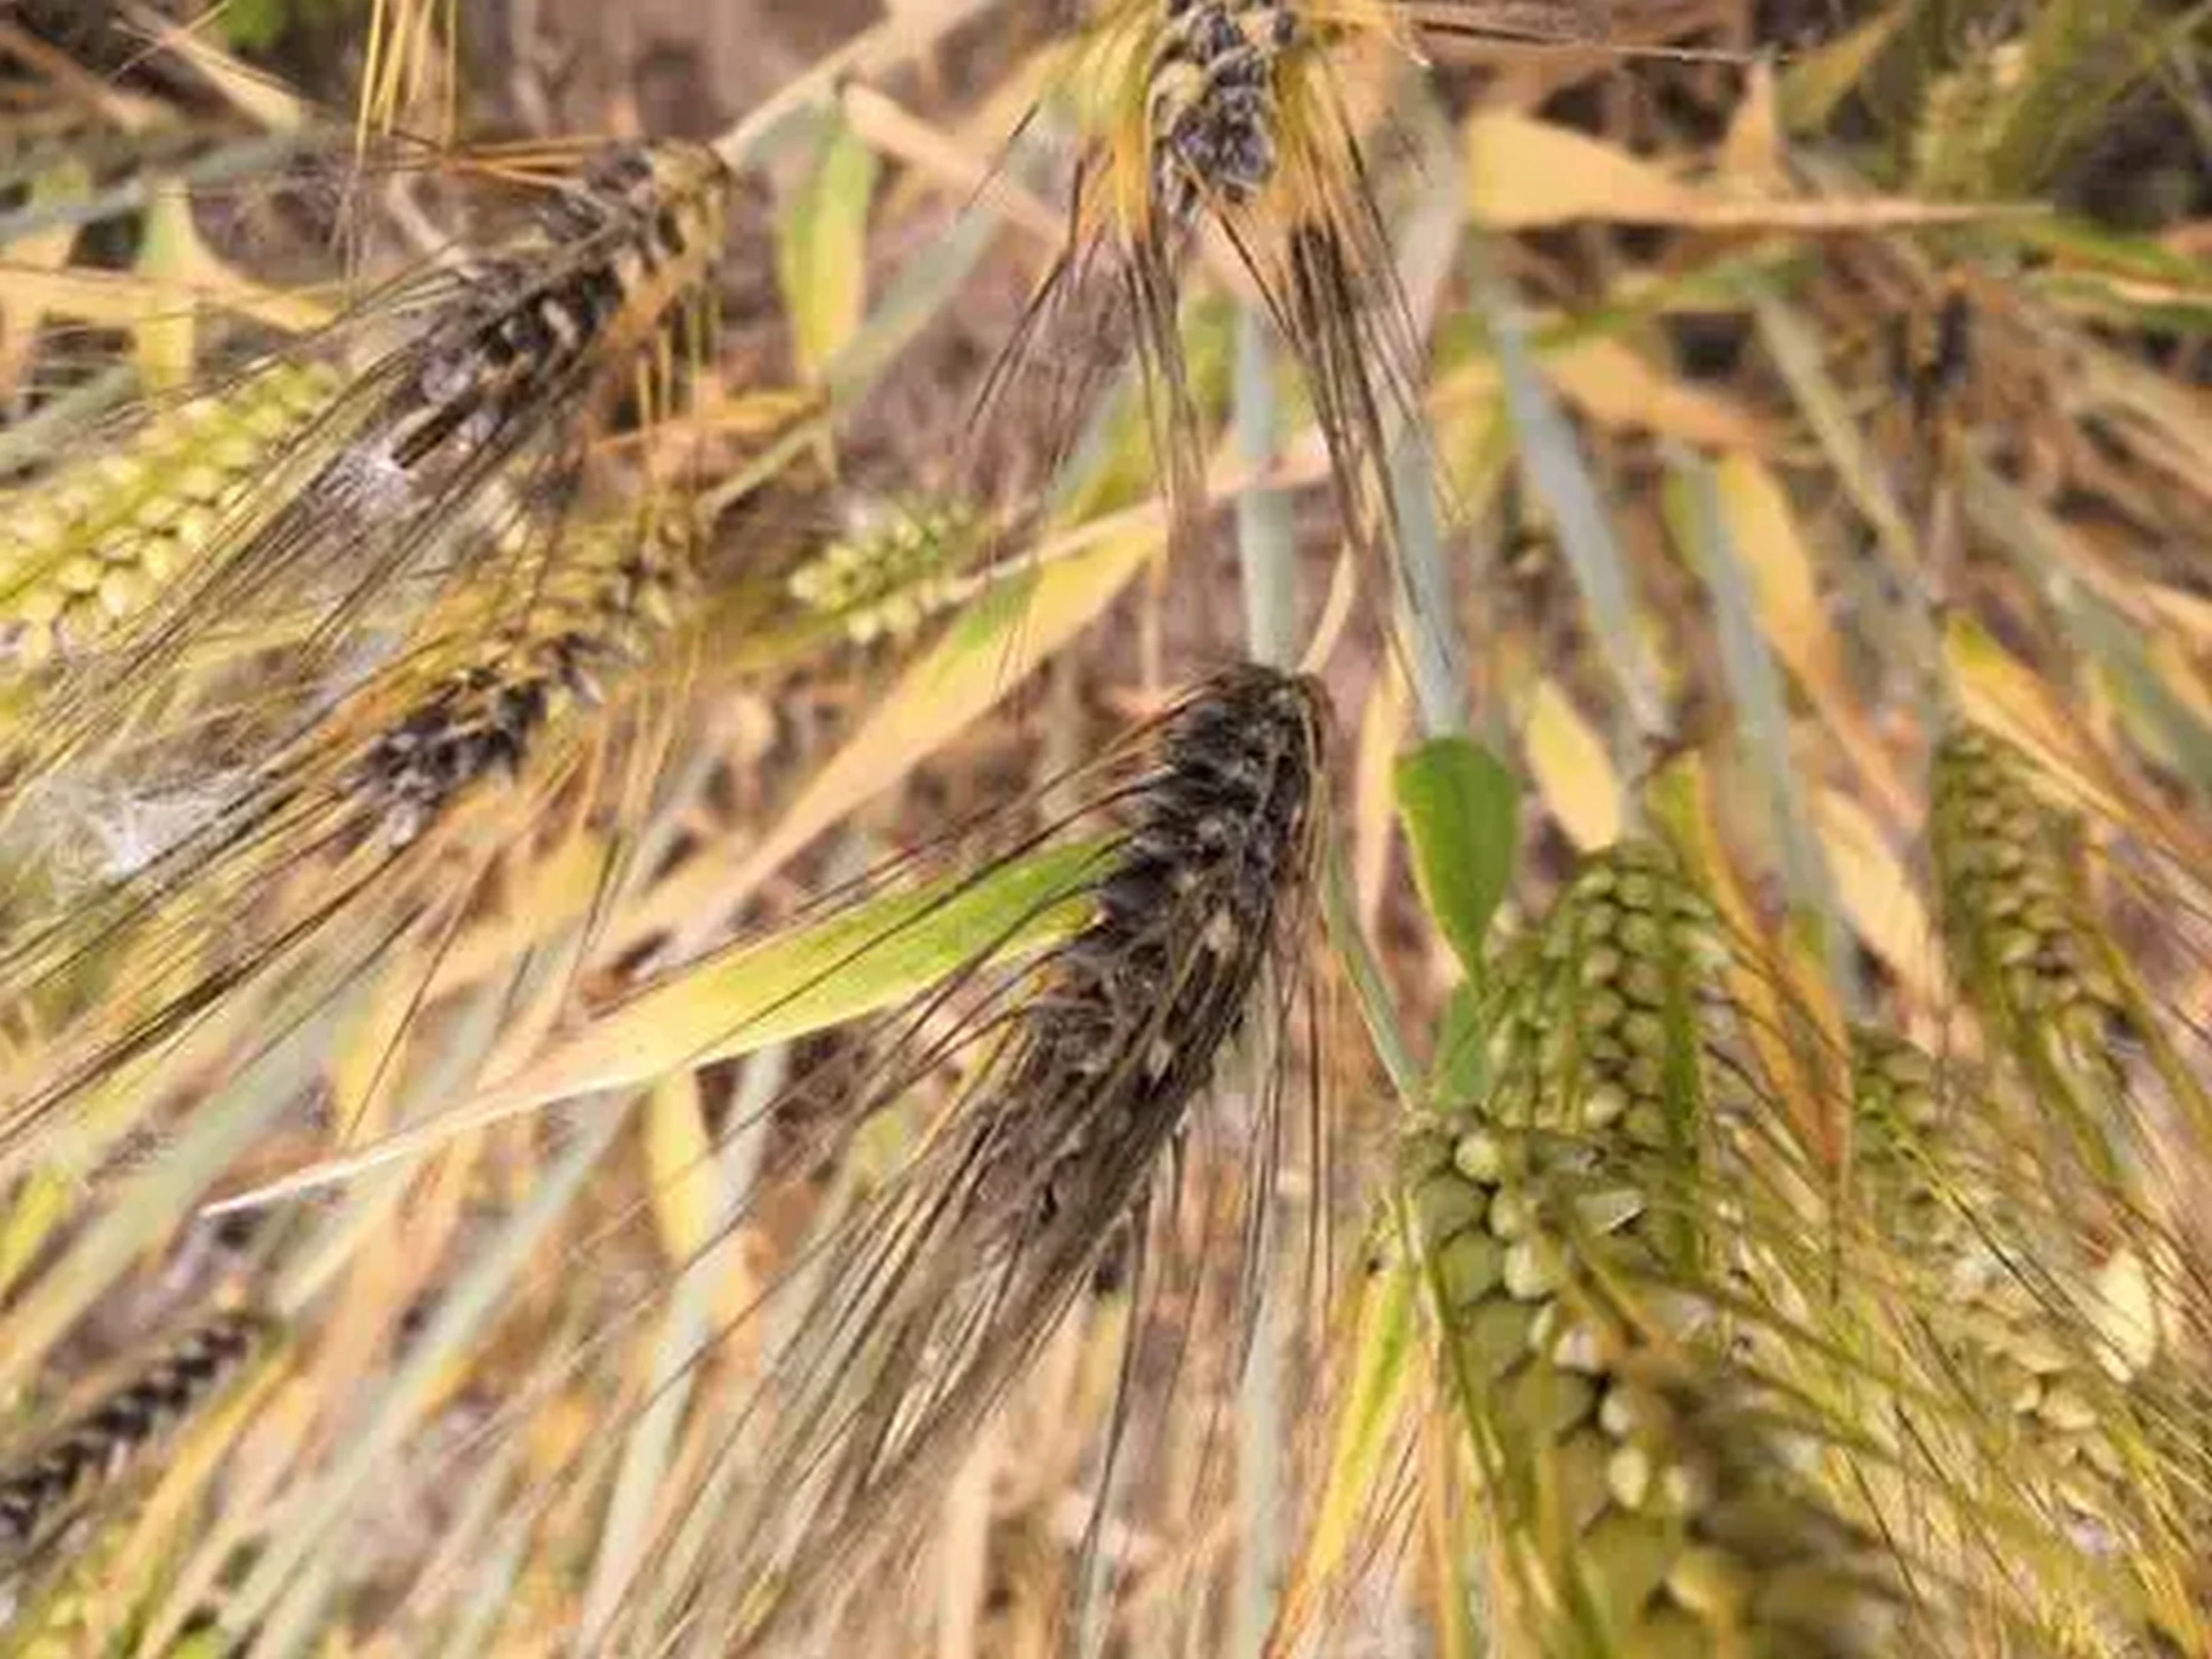Wheat Loose Smut: (911, 631, 1388, 1297)
